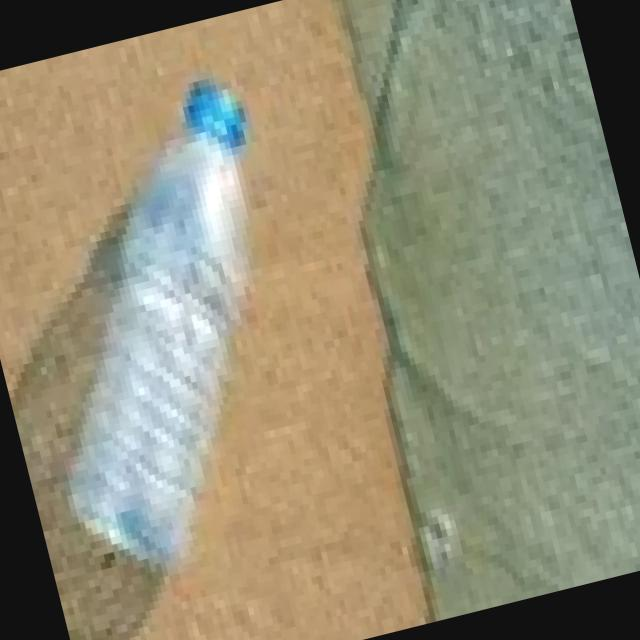Recycle: (0, 71, 350, 597)
